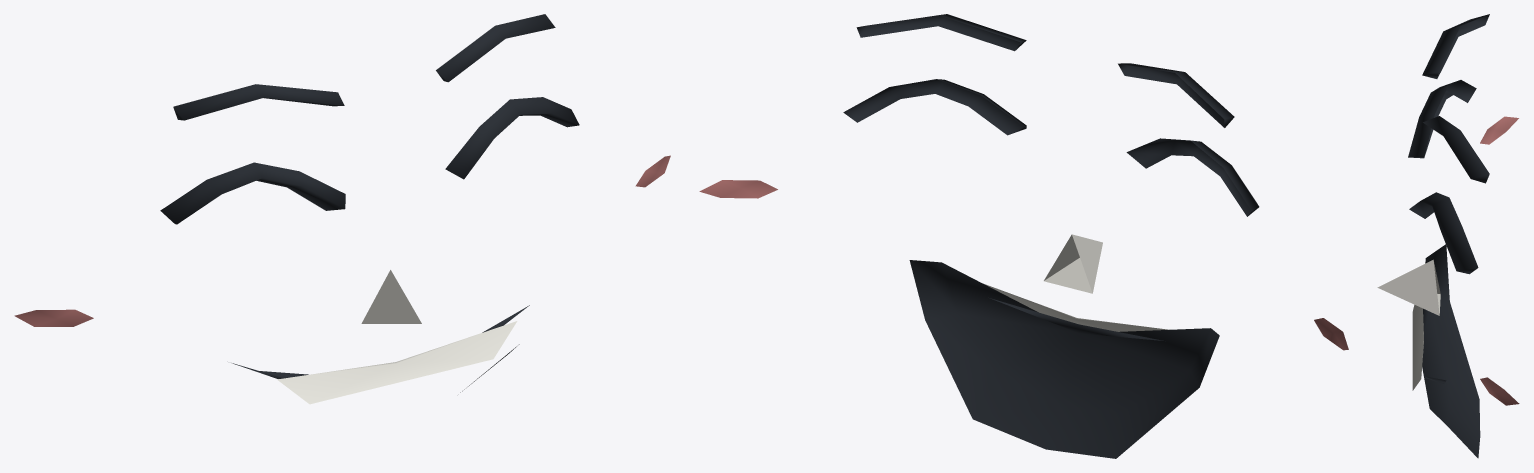
Rendered from face_smile_01.glb.
The picture shows the model from 3 angles, left to right: view 1: azimuth 30°, elevation 25°; view 2: azimuth 150°, elevation 25°; view 3: azimuth 270°, elevation 25°; orthographic projection. The views are drawn at different scales.
Parts seen in each view (by area): view 1: Relief smile, Nose.001; view 2: Relief smile, Nose.001; view 3: Relief smile, Nose.001.
Part boxes in pixels (x1=…): Relief smile: x1=14, y1=14, x2=670, y2=404; Nose.001: x1=361, y1=270, x2=421, y2=323; Relief smile: x1=699, y1=14, x2=1348, y2=458; Nose.001: x1=1044, y1=234, x2=1102, y2=293; Relief smile: x1=1408, y1=14, x2=1519, y2=458; Nose.001: x1=1377, y1=259, x2=1440, y2=315.
Bounding box in the file's own units: 0.5647 × 0.3301 × 0.119.
